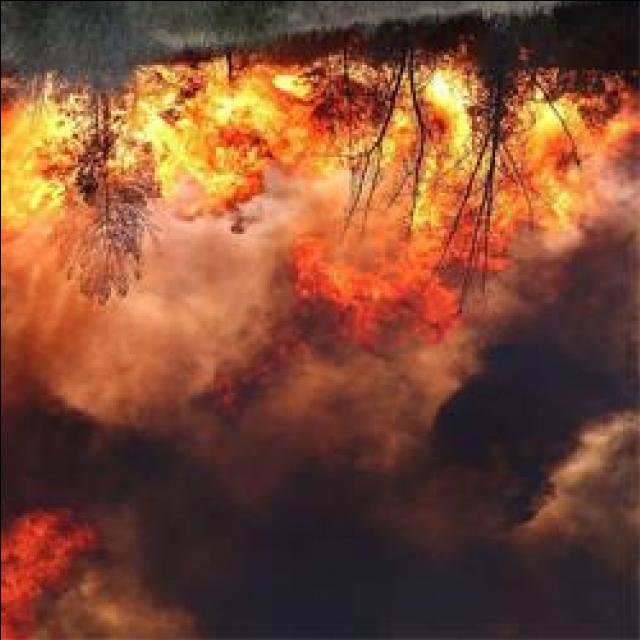fire: (128, 52, 304, 208), (501, 97, 640, 250), (422, 67, 474, 173), (0, 113, 46, 211)
smoke: (428, 348, 606, 516), (407, 511, 640, 637), (136, 219, 284, 415), (548, 228, 640, 415), (0, 417, 146, 507)
